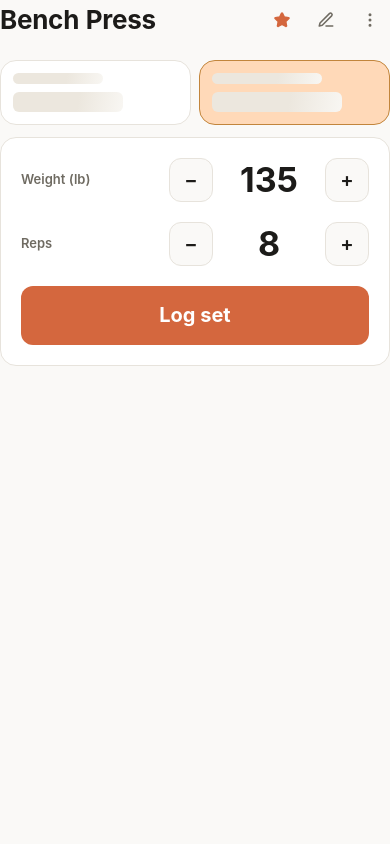
Test: ExerciseDetail exercise notes › shows a note saved before any session exists while paused offline, not just after reconnect
Click the button named "Add a note for this session".
click(326, 20)  # box [306,0,346,40]
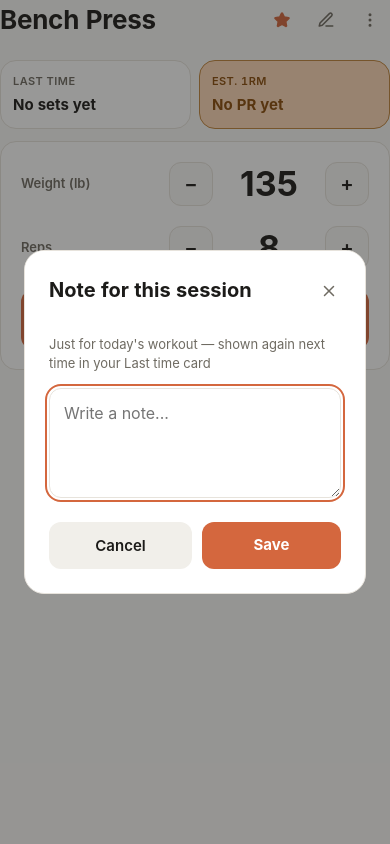
Type "Cut it short" into the text box with placeholder "Write a note...".
click(195, 443); type("Cut it short")  # box [49,388,341,498]
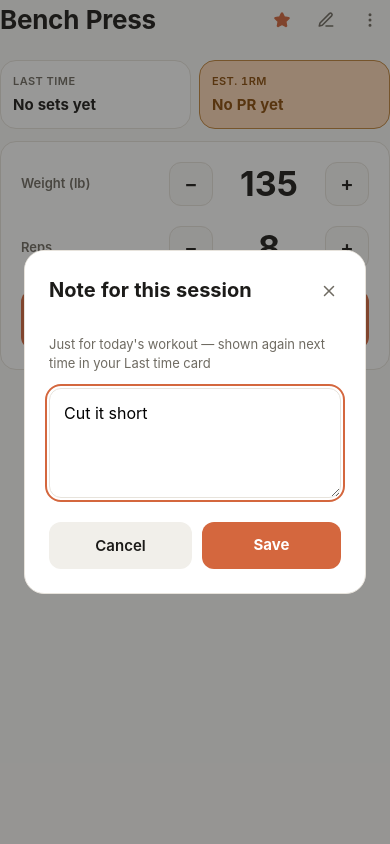
Click the button "Save".
click(272, 546)  # box [202,522,341,569]
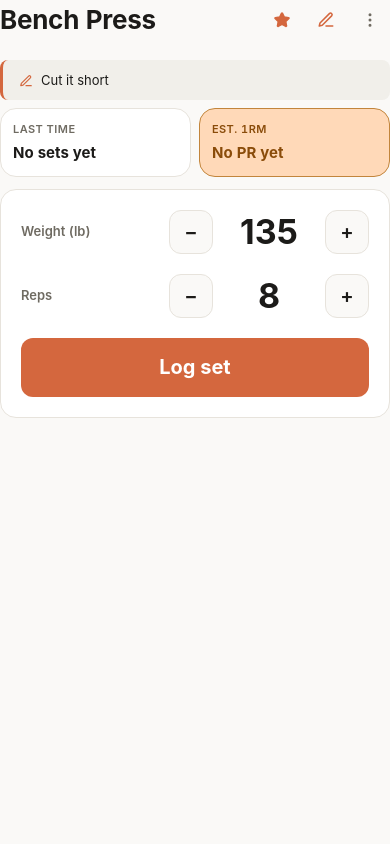
Check: the field with placeholder "Write a note..." is not shown
Check: the button named "Edit note for this session" is shown, box [306,0,346,40]
Check: the text "Cut it short" is shown, box [41,72,109,88]
